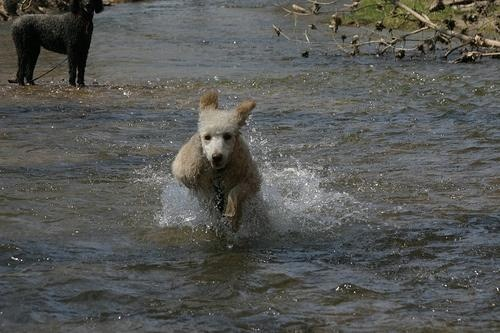dog: (171, 93, 263, 234), (11, 2, 105, 87)
